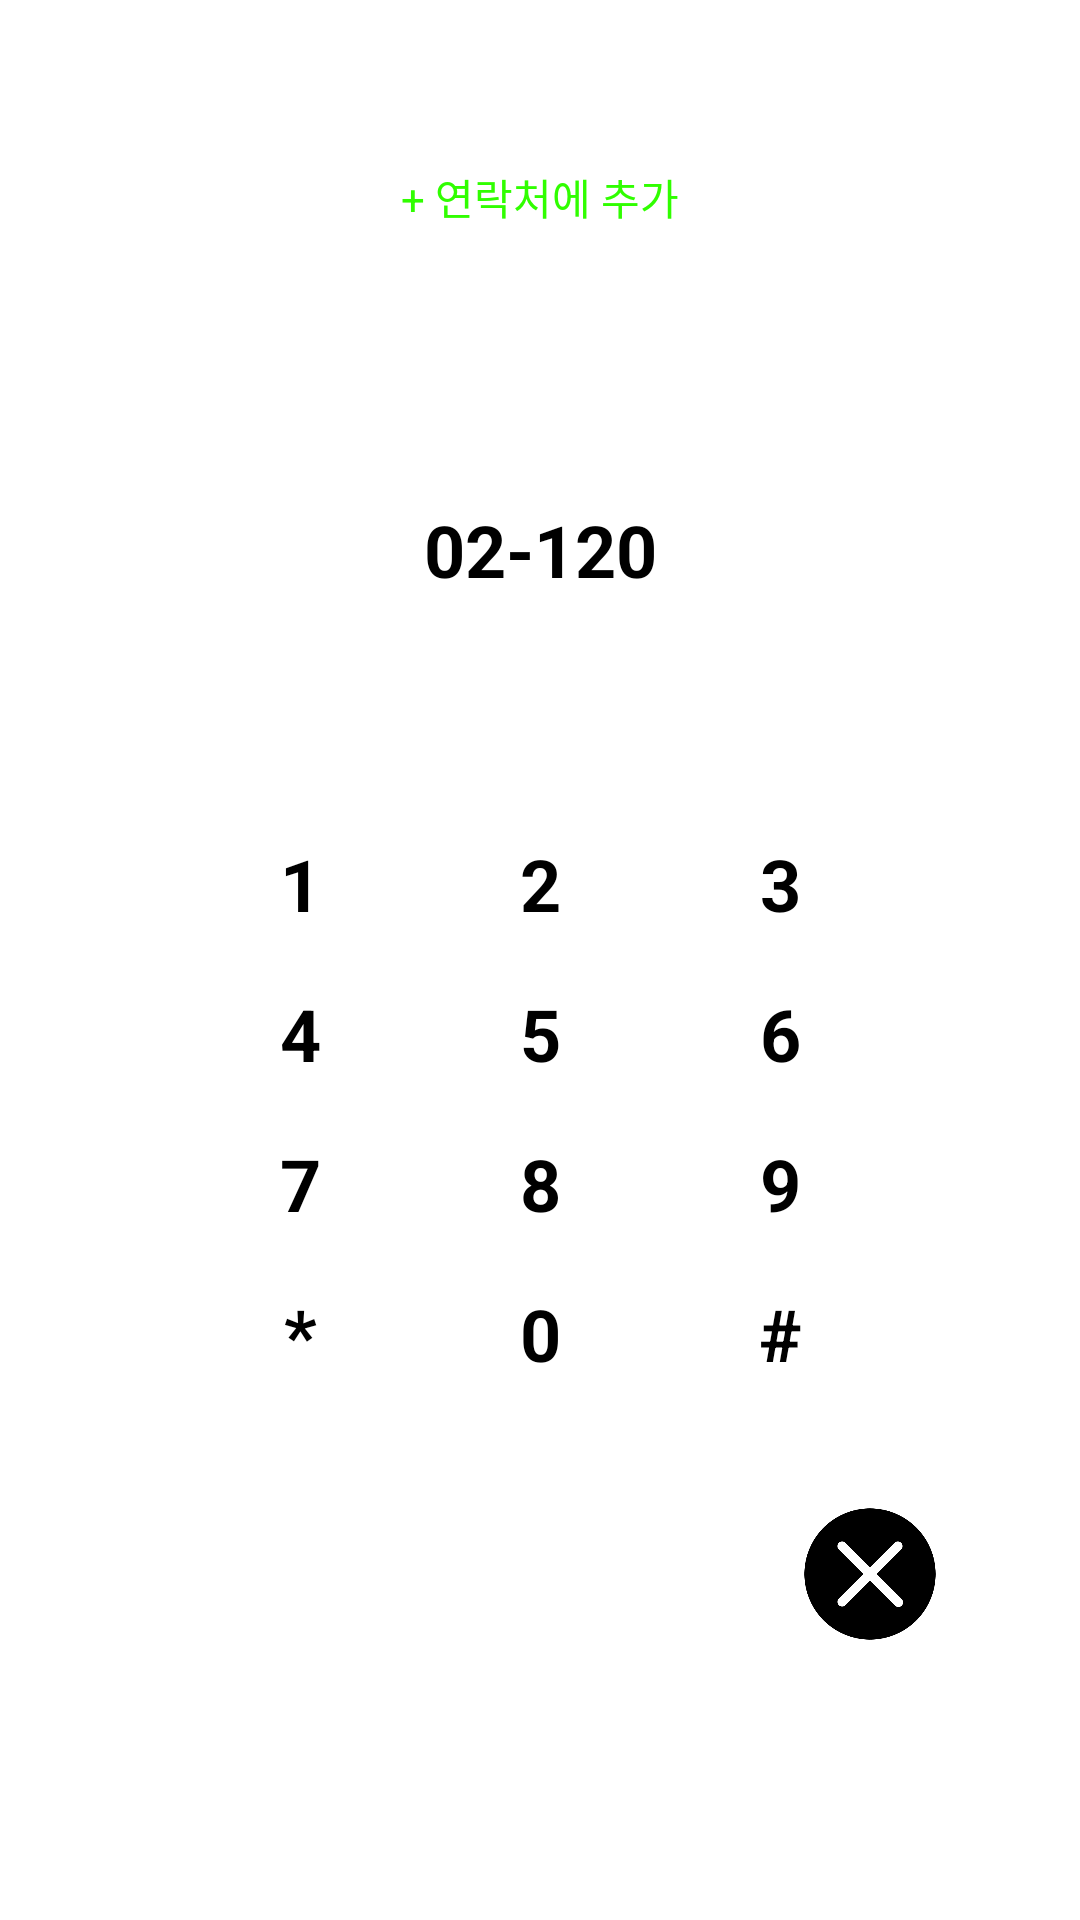

Icon click points for this 1080*1920 phone screenshot, format point (x, y):
cancel: point (870, 1574)
